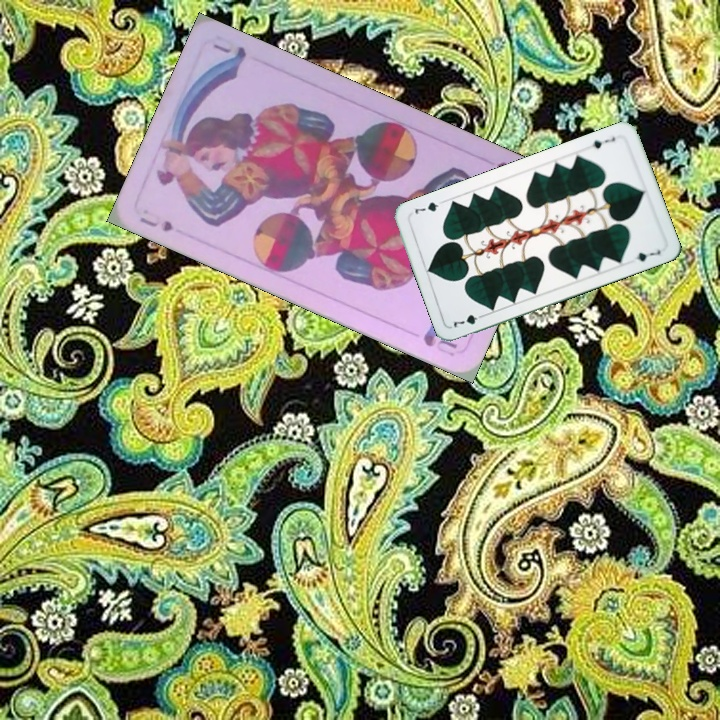G7: (449, 310, 488, 330), (588, 133, 618, 151)
SU: (135, 212, 176, 235)
